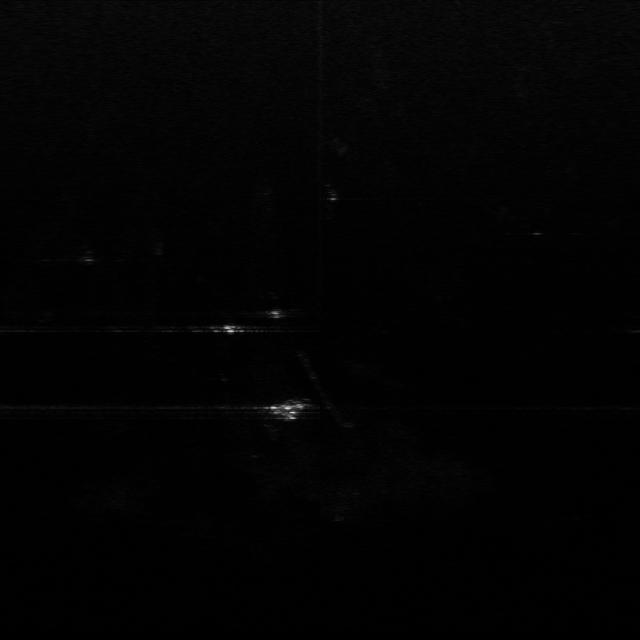rov: (266, 399, 310, 422)
